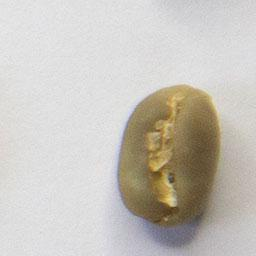peaberry: (112, 79, 224, 230)
